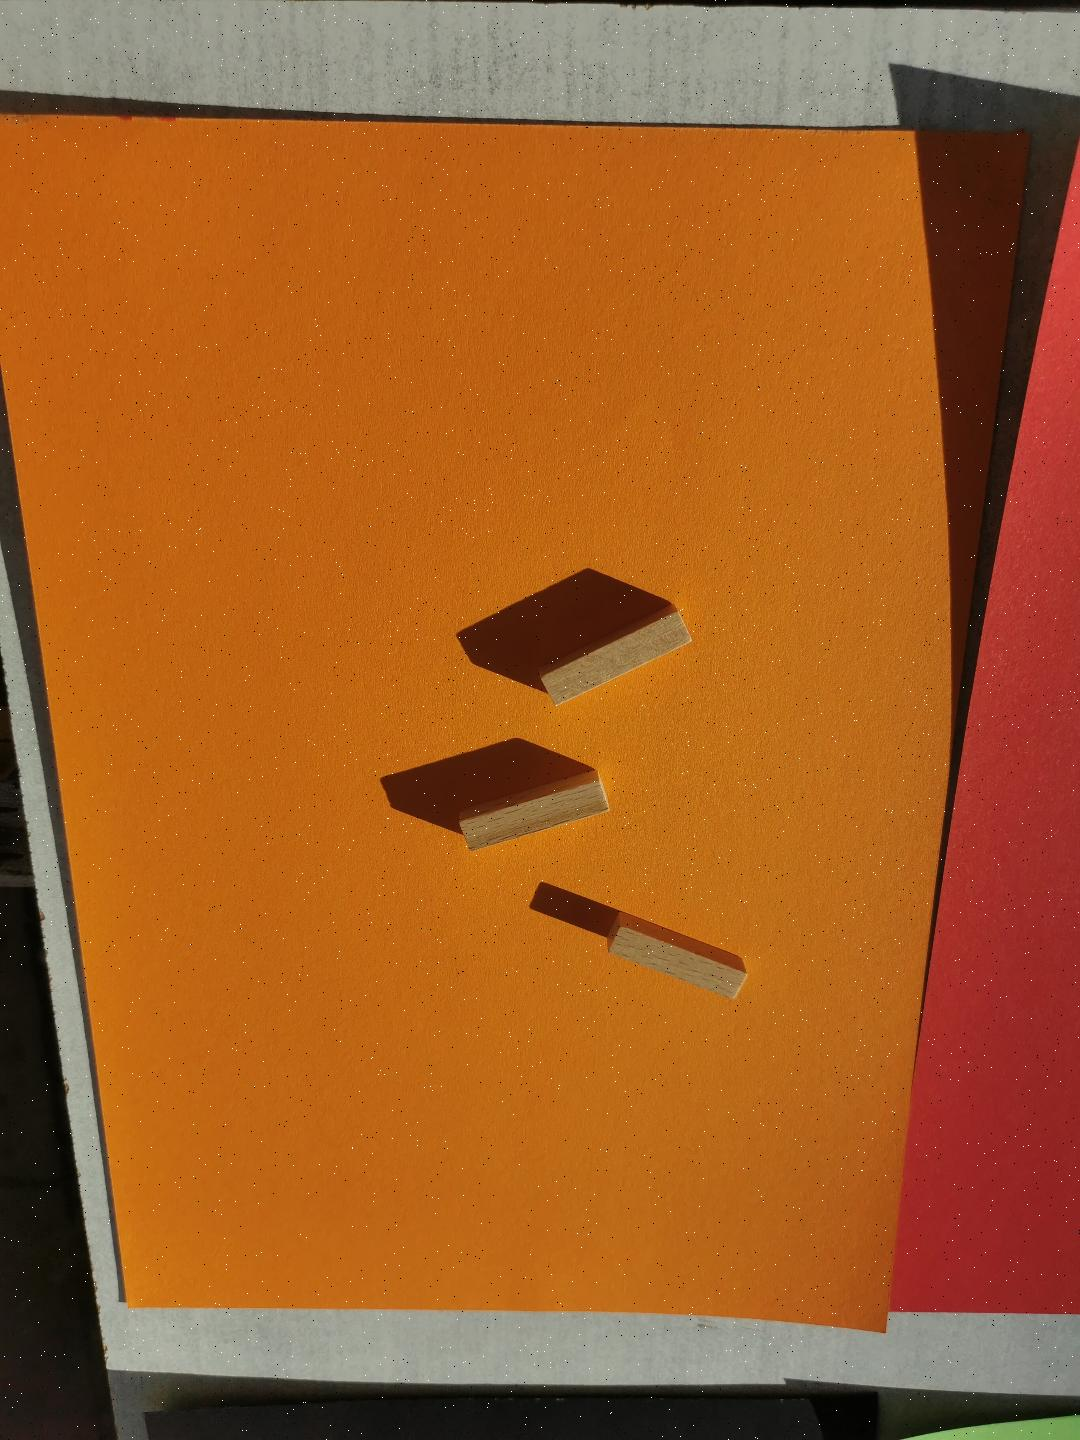jenga: (540, 604, 692, 706), (608, 912, 748, 999), (458, 771, 610, 849)
